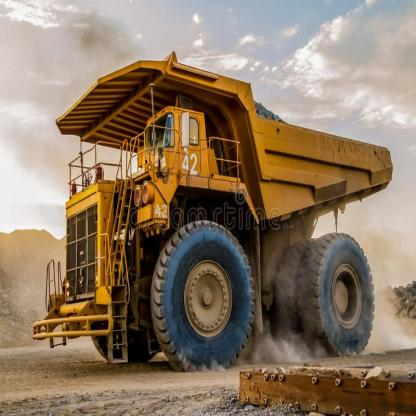dump_truck: (36, 49, 400, 372)
